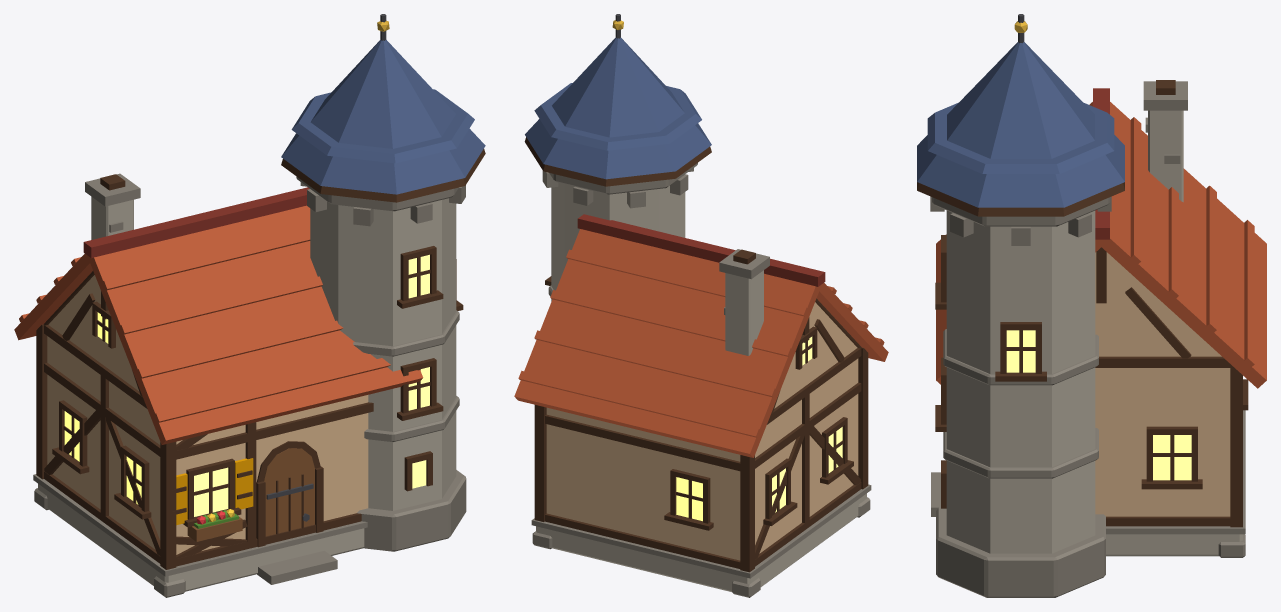
Rendered from Haus_Turm.fbx.
The picture shows the model from 3 angles, left to right: view 1: azimuth 30°, elevation 25°; view 2: azimuth 150°, elevation 25°; view 3: azimuth 270°, elevation 25°; orthographic projection. The views are drawn at different scales.
Parts seen in each view (by area): view 1: Haus_Turm; view 2: Haus_Turm; view 3: Haus_Turm.
Boxes of the visible parts, bbox=[...] form: Haus_Turm: bbox=[14, 14, 485, 597]; Haus_Turm: bbox=[514, 14, 888, 597]; Haus_Turm: bbox=[917, 14, 1266, 597].
Size of the model in its own units: 6.69 by 9.4 by 5.44.
